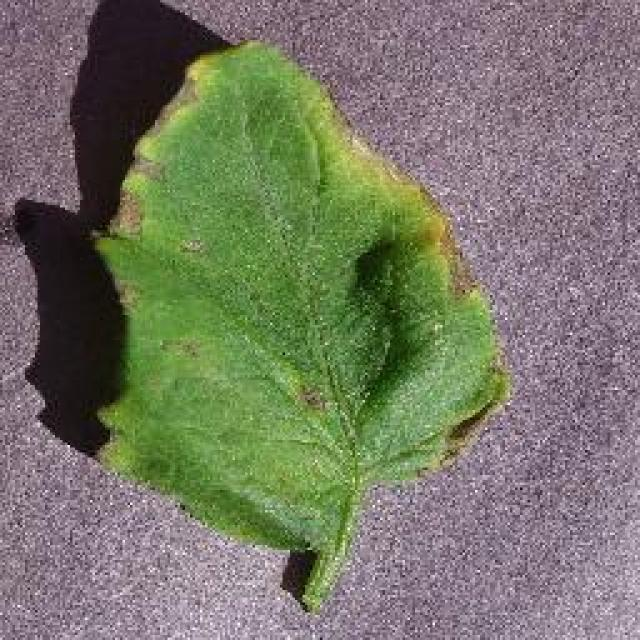Tomato Septoria spot leaf: (93, 26, 515, 564)
